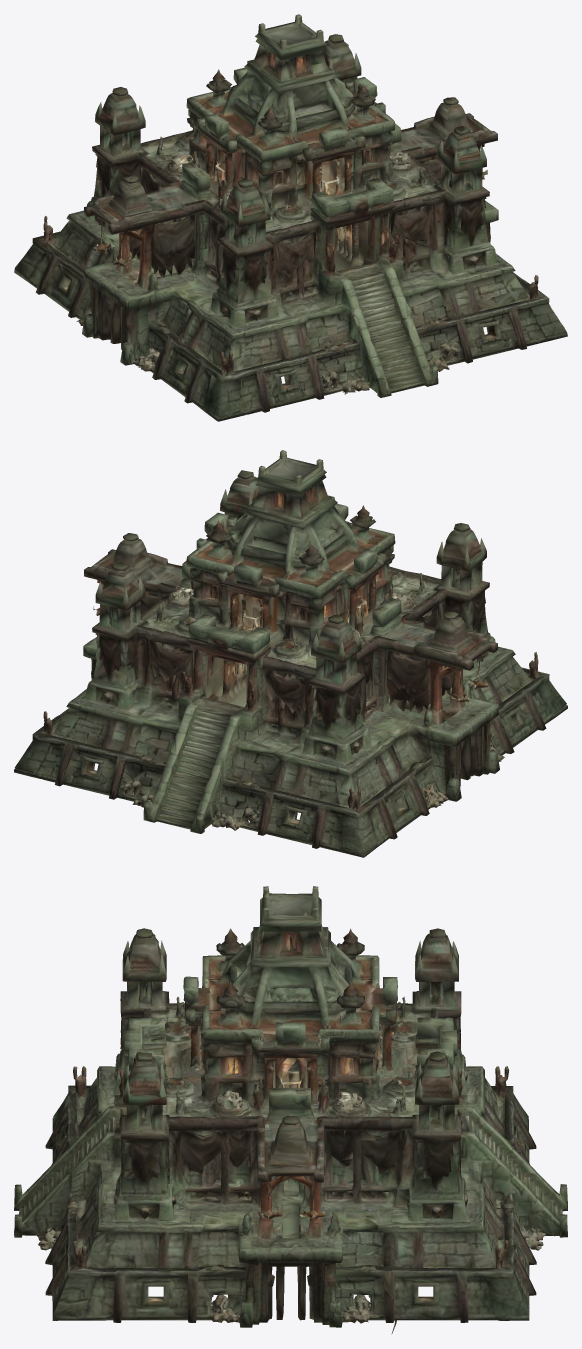
Rendered from A_massive_imperial_pa.glb.
3 renders of one model, top to bottom at view 1: azimuth 30°, elevation 25°; view 2: azimuth 150°, elevation 25°; view 3: azimuth 270°, elevation 25°, orthographic. The views are drawn at different scales.
Parts seen in each view (by area): view 1: A_massive_imperial_pa; view 2: A_massive_imperial_pa; view 3: A_massive_imperial_pa.
Part boxes in pixels (x1,y1,x2,y2): A_massive_imperial_pa: (14, 14, 567, 421); A_massive_imperial_pa: (14, 450, 567, 857); A_massive_imperial_pa: (14, 886, 567, 1334).
Size of the model in its own units: 1.78 by 1.28 by 1.9.
1 material, 1 textured.
